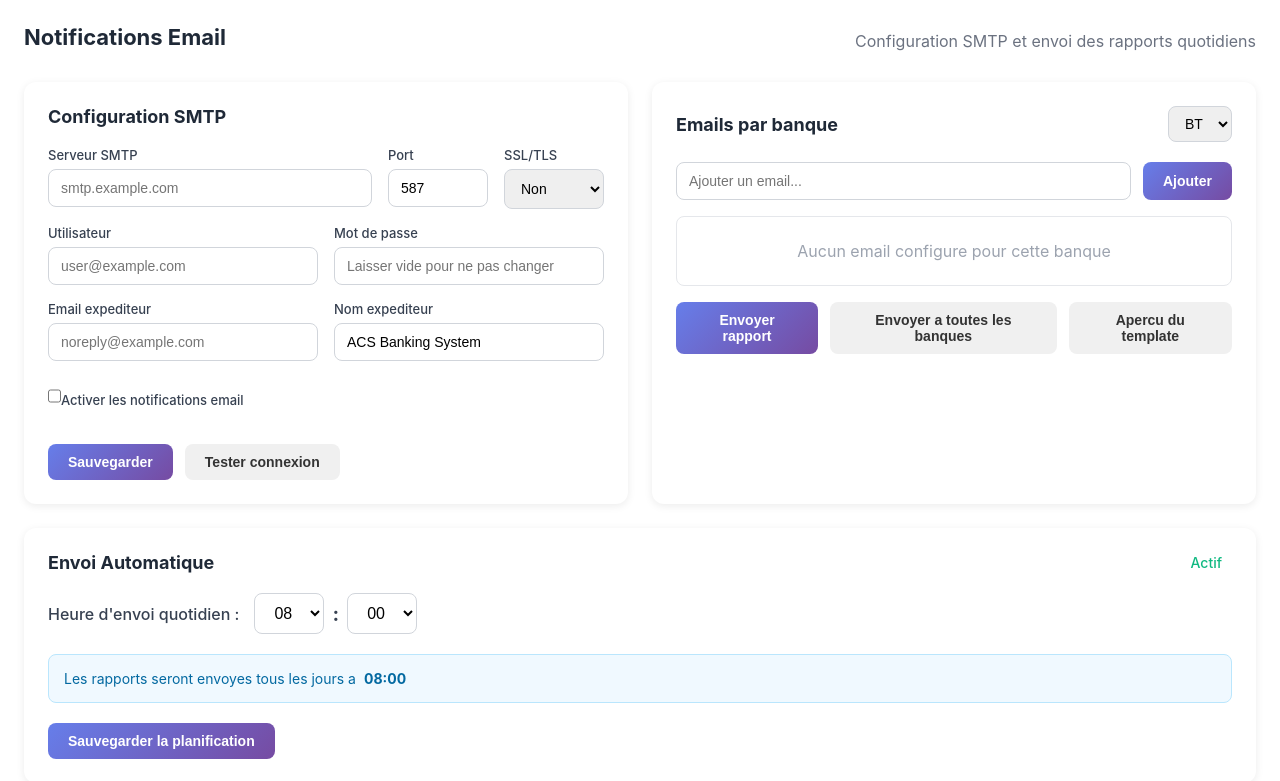
Notifications › checks test SMTP result shows error from network error
Check: the heading "Notifications Email" is shown, box [24,24,226,50]
Click the button "Tester connexion": [262, 462] box [185,444,340,480]
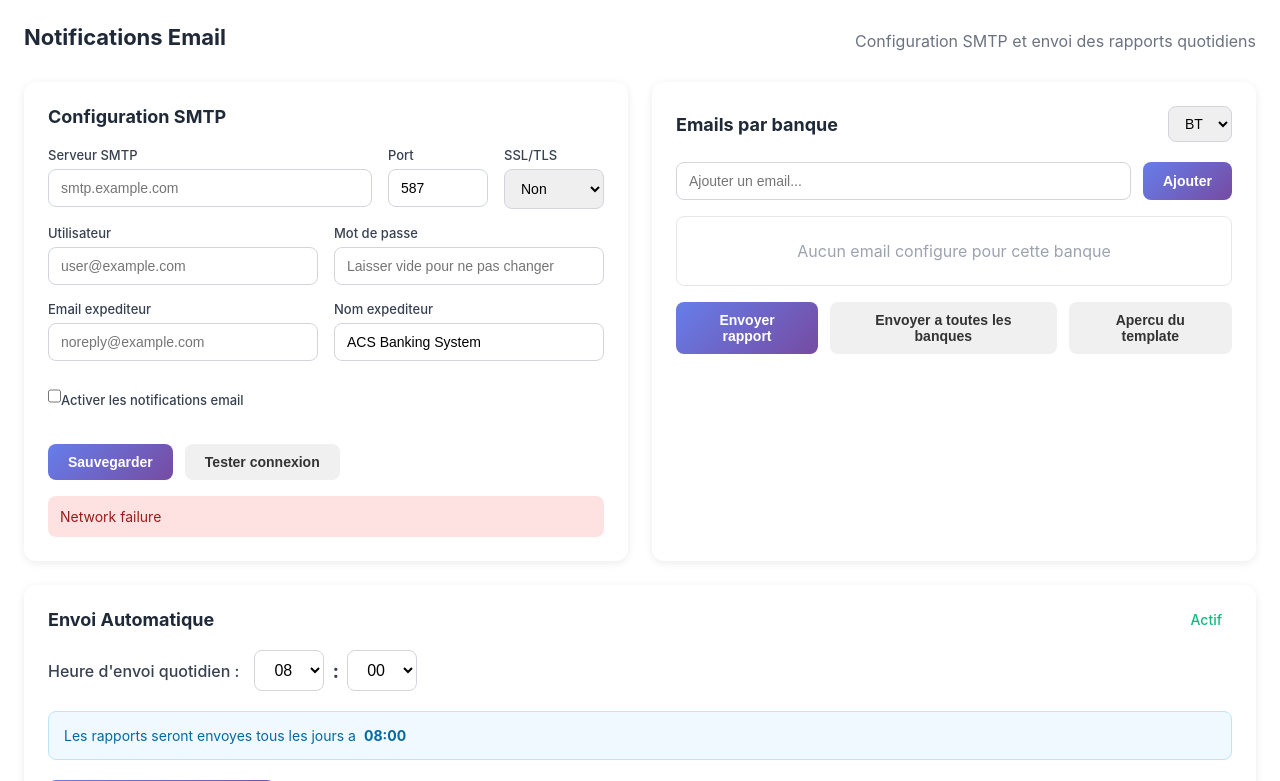
Check: the text "Network failure" is shown, box [48,496,604,537]
